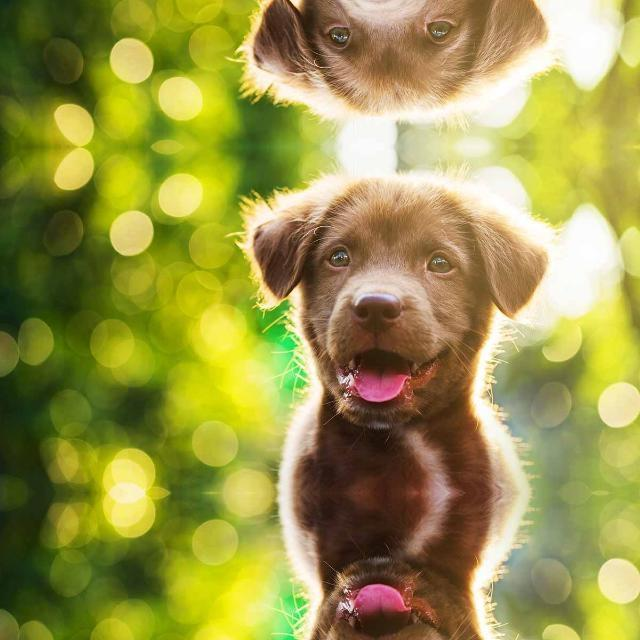dog: (243, 164, 552, 412), (242, 0, 551, 128), (242, 574, 551, 640)
